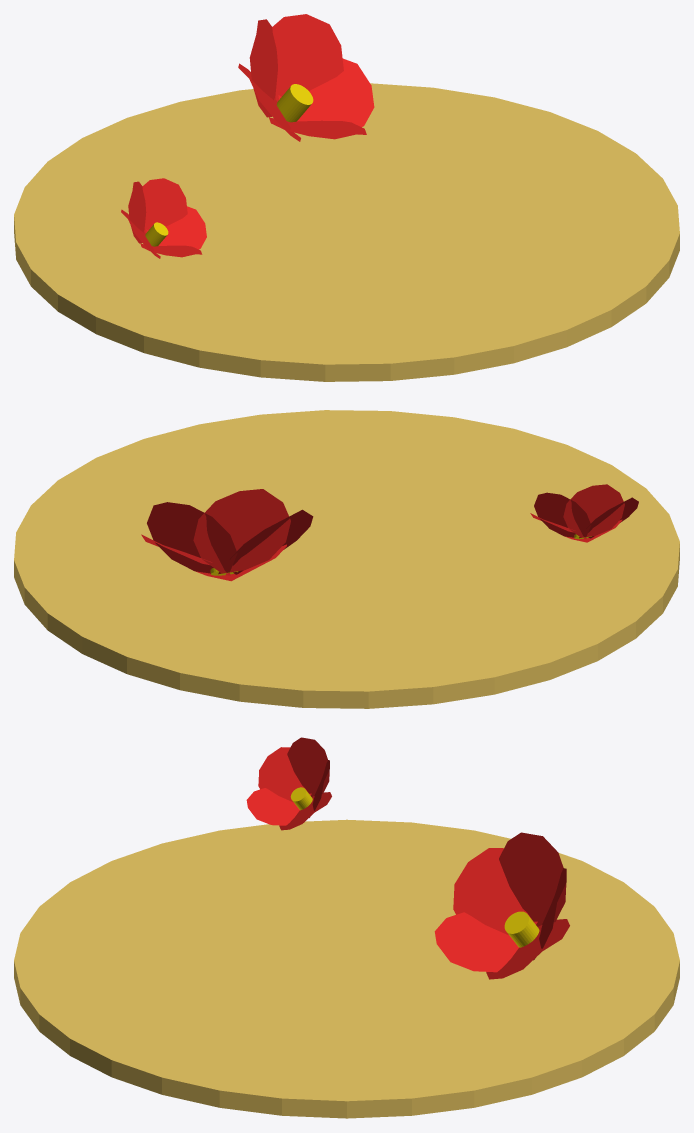
File: dodaii.glb
The picture shows the model from 3 angles, top to bottom: view 1: azimuth 30°, elevation 25°; view 2: azimuth 150°, elevation 25°; view 3: azimuth 270°, elevation 25°; orthographic projection.
Parts seen in each view (by area): view 1: Cylinder, Circle.003, Circle.001, Cylinder.001; view 2: Cylinder, Circle.003, Circle.001; view 3: Cylinder, Circle.003, Circle.001, Cylinder.001.
Part boxes in pixels (bbox=[...]): Cylinder: bbox=[14, 83, 679, 381]; Circle.003: bbox=[238, 14, 374, 141]; Circle.001: bbox=[121, 178, 206, 258]; Cylinder.001: bbox=[276, 84, 313, 122]; Cylinder: bbox=[14, 410, 679, 708]; Circle.003: bbox=[141, 489, 313, 581]; Circle.001: bbox=[530, 484, 638, 542]; Cylinder: bbox=[14, 819, 679, 1118]; Circle.003: bbox=[434, 832, 569, 979]; Circle.001: bbox=[246, 737, 331, 830]; Cylinder.001: bbox=[504, 911, 539, 947].
Bounding box in the file's own units: 1.22 × 0.2957 × 1.22.
